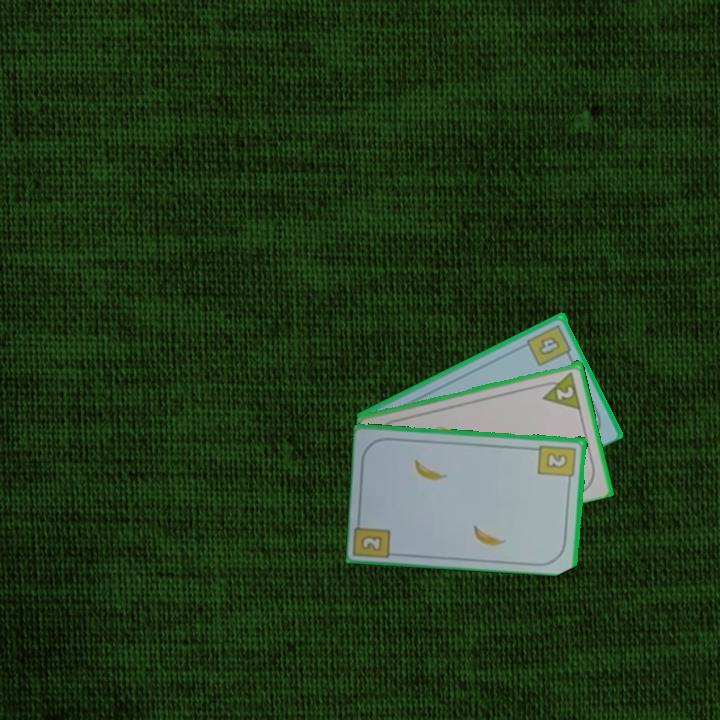2b: (535, 442, 579, 485), (357, 532, 385, 554)
2p: (537, 368, 584, 411)
4b: (523, 320, 575, 369)
